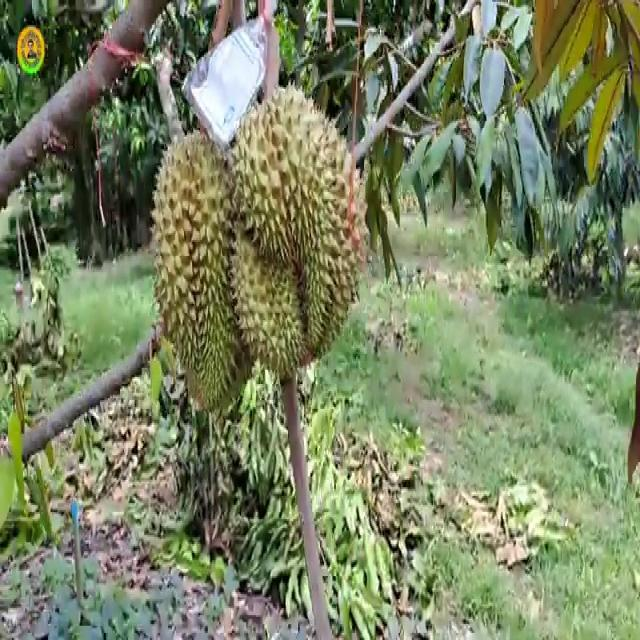durian: (225, 77, 375, 386), (146, 125, 266, 427)
